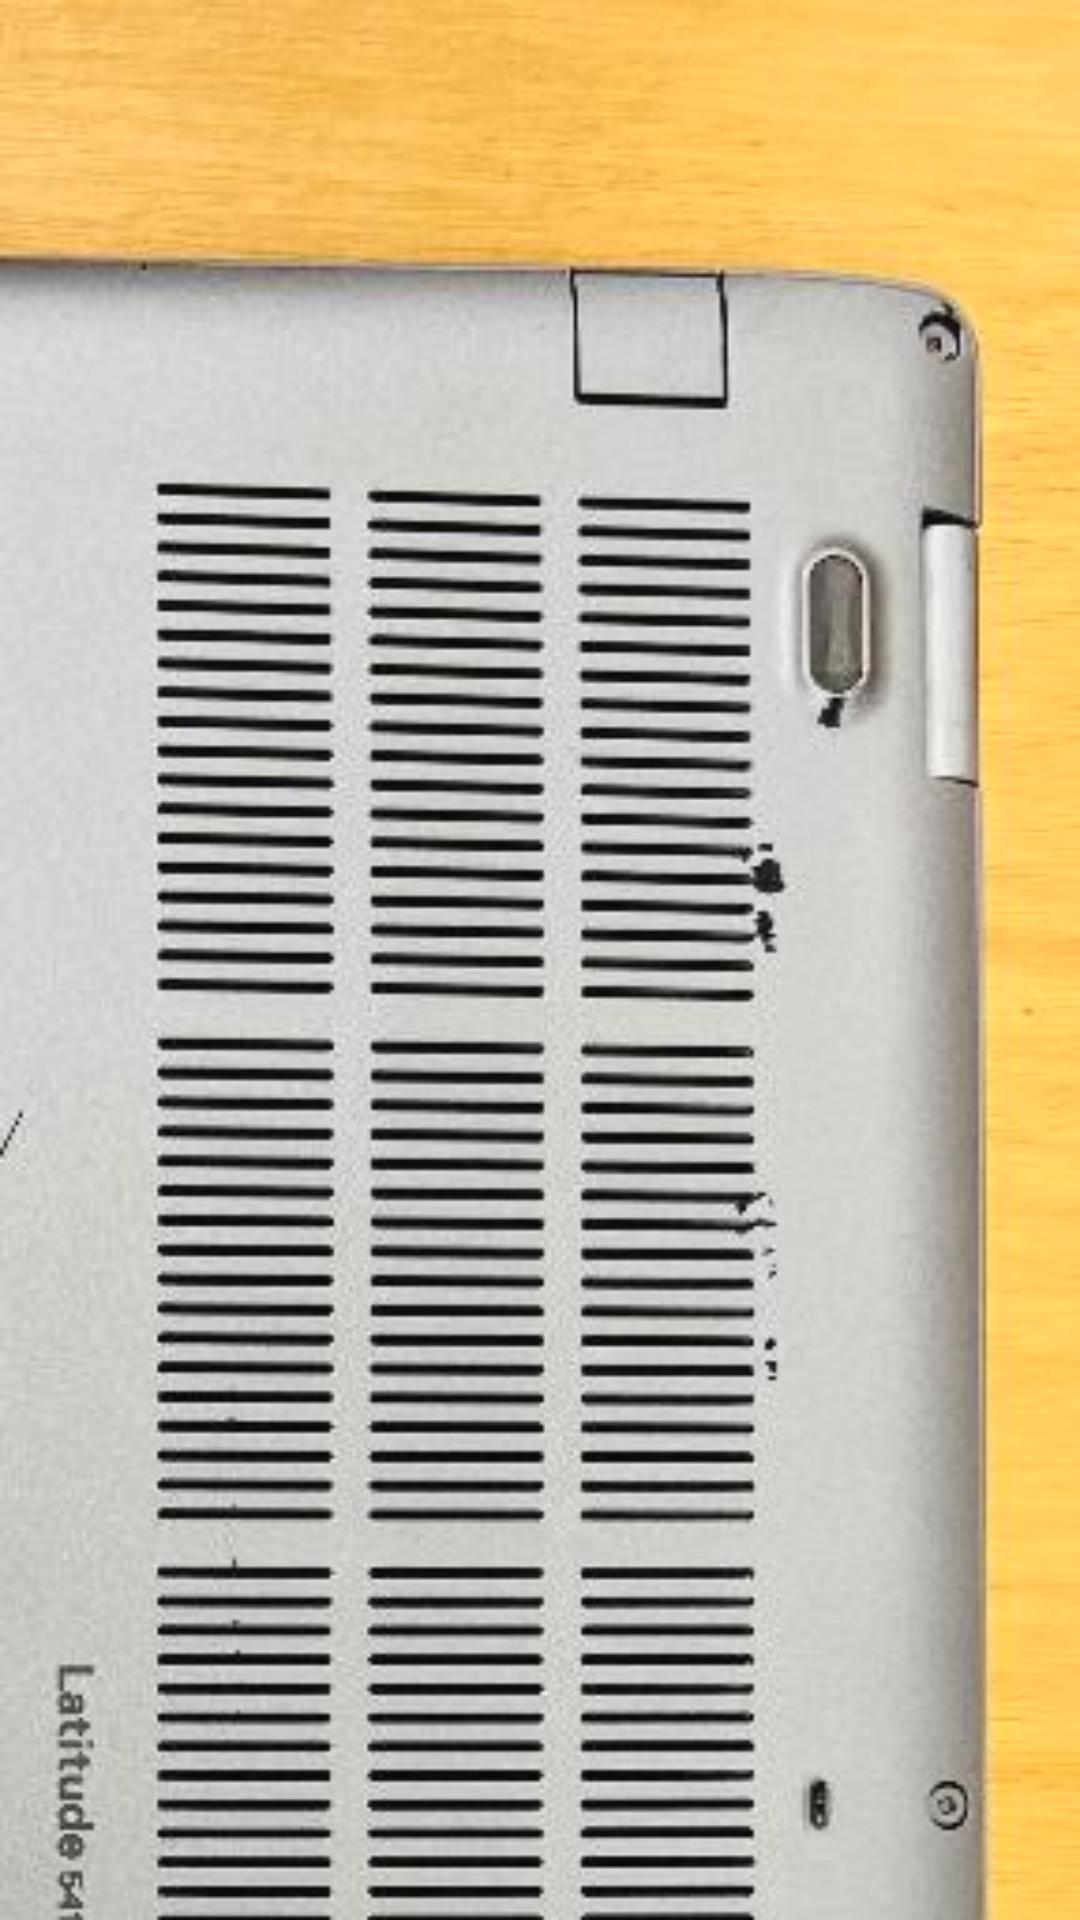chip: (740, 840, 787, 894), (753, 910, 777, 953), (818, 696, 848, 729), (764, 1360, 779, 1383), (762, 1337, 778, 1352)
scratches: (0, 1110, 30, 1174), (733, 1189, 775, 1216), (733, 1218, 779, 1237), (760, 1242, 775, 1257), (766, 1263, 778, 1279), (232, 1617, 239, 1627), (233, 1556, 239, 1568), (228, 1415, 236, 1423), (233, 1503, 237, 1510)
